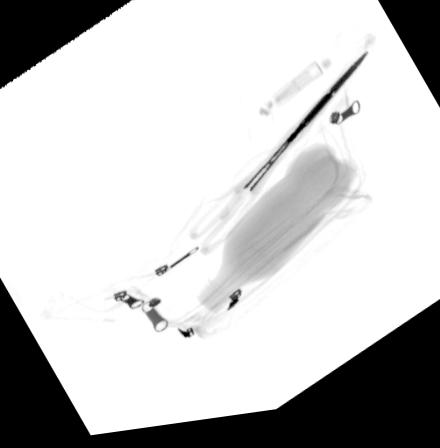Scissors: (187, 63, 369, 262)
